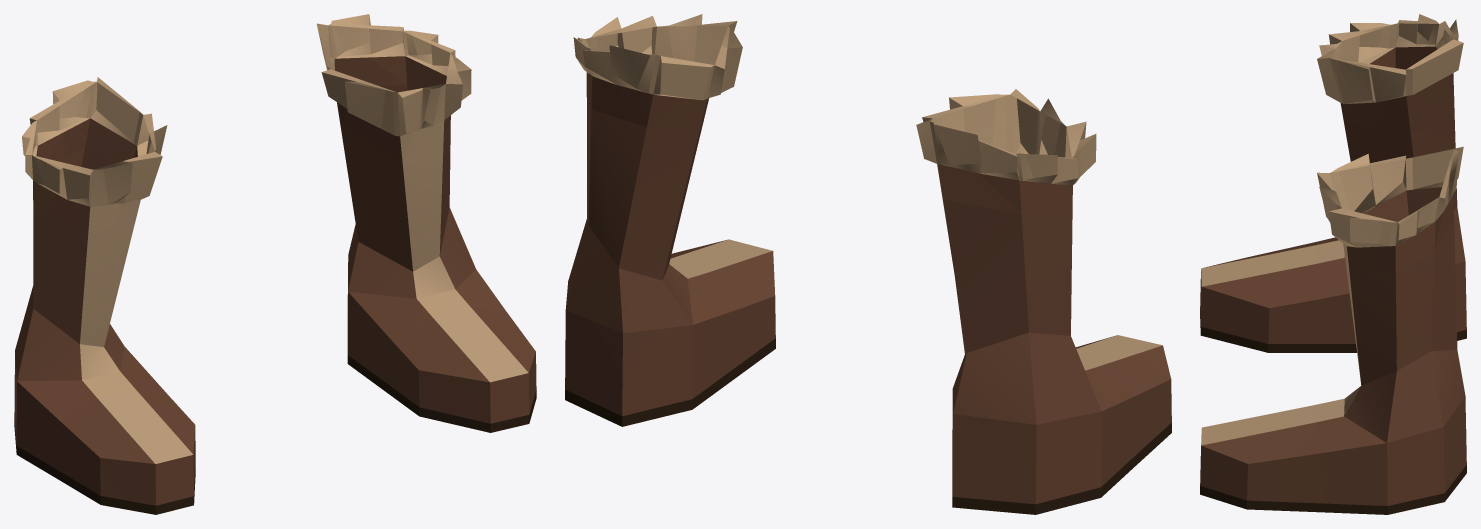
Rendered from FurBoots.dae.
The picture shows the model from 3 angles, left to right: view 1: azimuth 30°, elevation 25°; view 2: azimuth 150°, elevation 25°; view 3: azimuth 270°, elevation 25°; orthographic projection. The views are drawn at different scales.
Visible parts, largest first — view 1: Boots; view 2: Boots; view 3: Boots.
Part boxes in pixels (left/top/right/bottom): Boots: left=14, top=14, right=536, bottom=514; Boots: left=565, top=14, right=1171, bottom=514; Boots: left=1200, top=14, right=1466, bottom=514.
Size of the model in its own units: 2.62 by 1.36 by 1.75.
